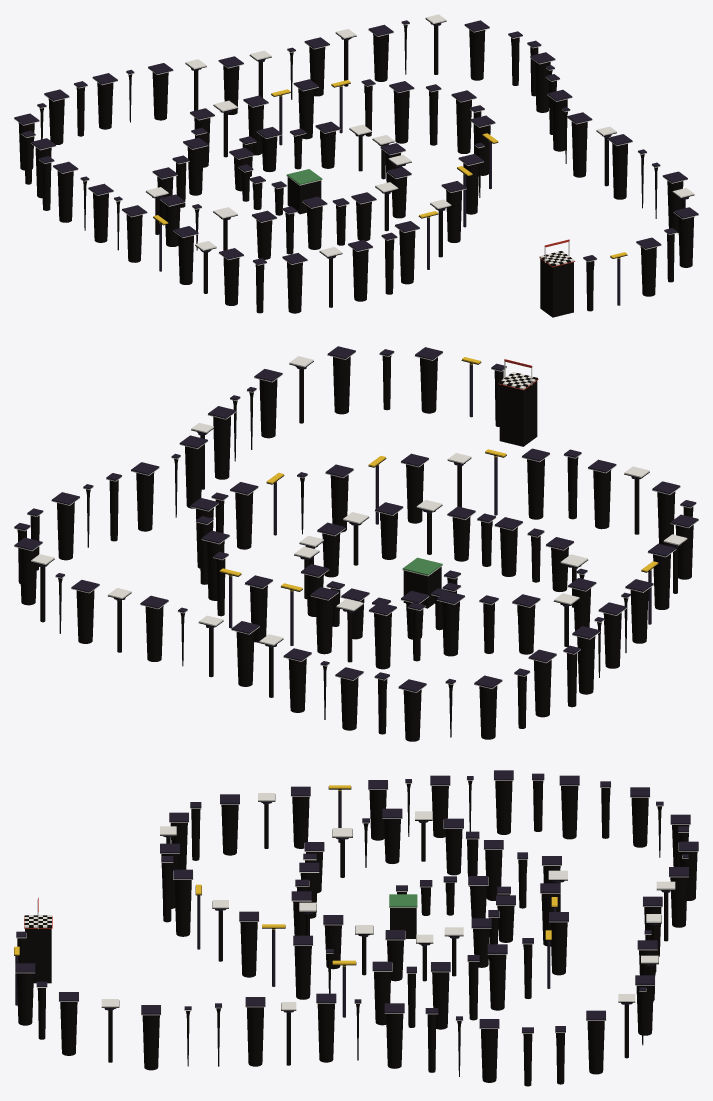
File: nanquim.glb
3 renders of one model, top to bottom at view 1: azimuth 30°, elevation 25°; view 2: azimuth 150°, elevation 25°; view 3: azimuth 270°, elevation 25°, orthographic. The views are drawn at different scales.
Parts seen in each view (by area): view 1: map_bh_ink.001, map_bh_ink_gloss.001, map_paper.001, map_bh_yellow.001; view 2: map_bh_ink.001, map_bh_ink_gloss.001, map_paper.001, map_bh_yellow.001; view 3: map_bh_ink.001, map_bh_ink_gloss.001, map_paper.001, map_bh_yellow.001.
Part boxes in pixels (x1,y1,x2,y2): map_bh_ink.001: (18,18,694,317); map_bh_ink_gloss.001: (14,20,698,305); map_paper.001: (14,14,698,265); map_bh_yellow.001: (153,80,627,258); map_bh_ink.001: (17,355,693,741); map_bh_ink_gloss.001: (14,346,698,692); map_paper.001: (14,352,698,692); map_bh_yellow.001: (219,357,658,591); map_bh_ink.001: (14,780,697,1086); map_bh_ink_gloss.001: (15,770,698,1032); map_paper.001: (15,772,698,1033); map_bh_yellow.001: (14,785,557,966).
Bounding box in the file's own units: 134 × 17.65 × 149.
